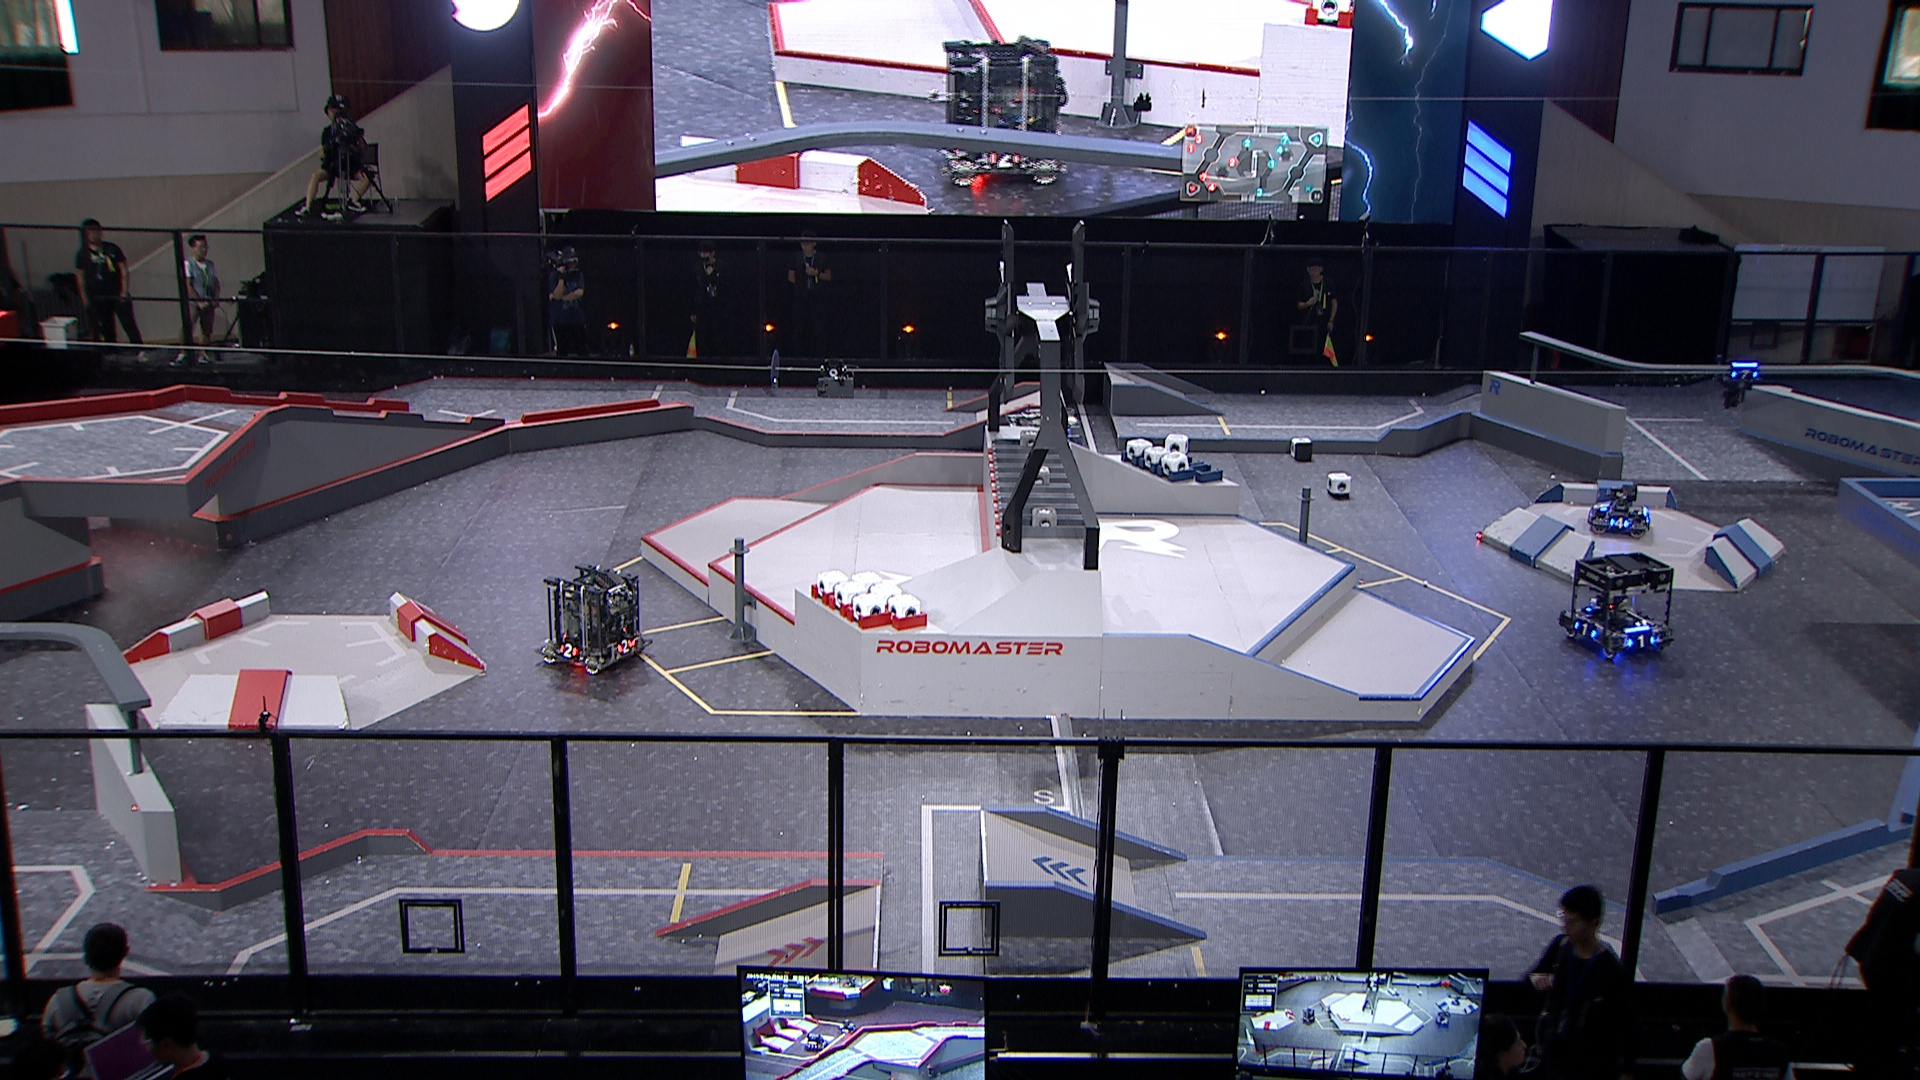armor: (1625, 632, 1658, 651), (1571, 618, 1598, 641), (1727, 367, 1759, 381), (1607, 514, 1633, 531), (615, 636, 636, 655), (556, 642, 579, 659)
car: (534, 564, 651, 676), (1557, 551, 1675, 662), (1002, 406, 1084, 485), (1585, 480, 1655, 541)
ignore: (927, 36, 1069, 186)
watcher: (1716, 353, 1760, 410)
